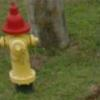a fire hydrant: (0, 3, 39, 88)
